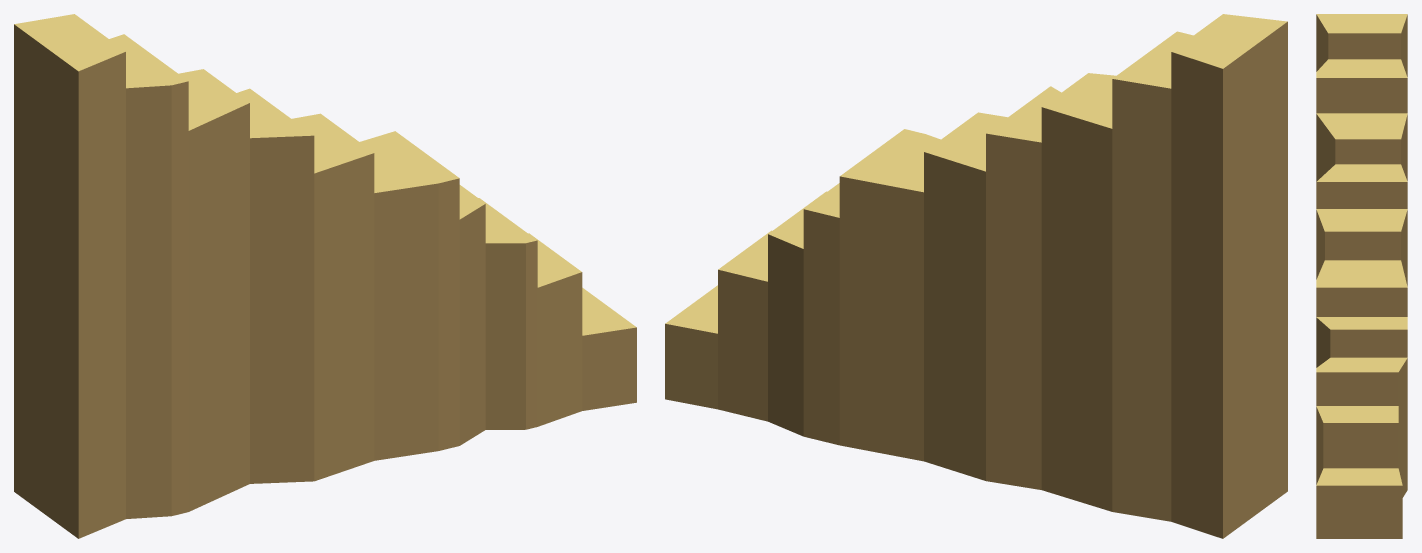
File: Terrain_Tile_Sand_Stairs_01.fbx
The picture shows the model from 3 angles, left to right: view 1: azimuth 30°, elevation 25°; view 2: azimuth 150°, elevation 25°; view 3: azimuth 270°, elevation 25°; orthographic projection. The views are drawn at different scales.
Visible parts, largest first — view 1: Terrain_Tile_Sand_Stairs_01; view 2: Terrain_Tile_Sand_Stairs_01; view 3: Terrain_Tile_Sand_Stairs_01.
Part boxes in pixels (x1,y1,x2,y2): Terrain_Tile_Sand_Stairs_01: (14, 14, 636, 538); Terrain_Tile_Sand_Stairs_01: (665, 14, 1287, 538); Terrain_Tile_Sand_Stairs_01: (1316, 14, 1407, 538).
Bounding box in the file's own units: 157 × 126 × 31.5.
